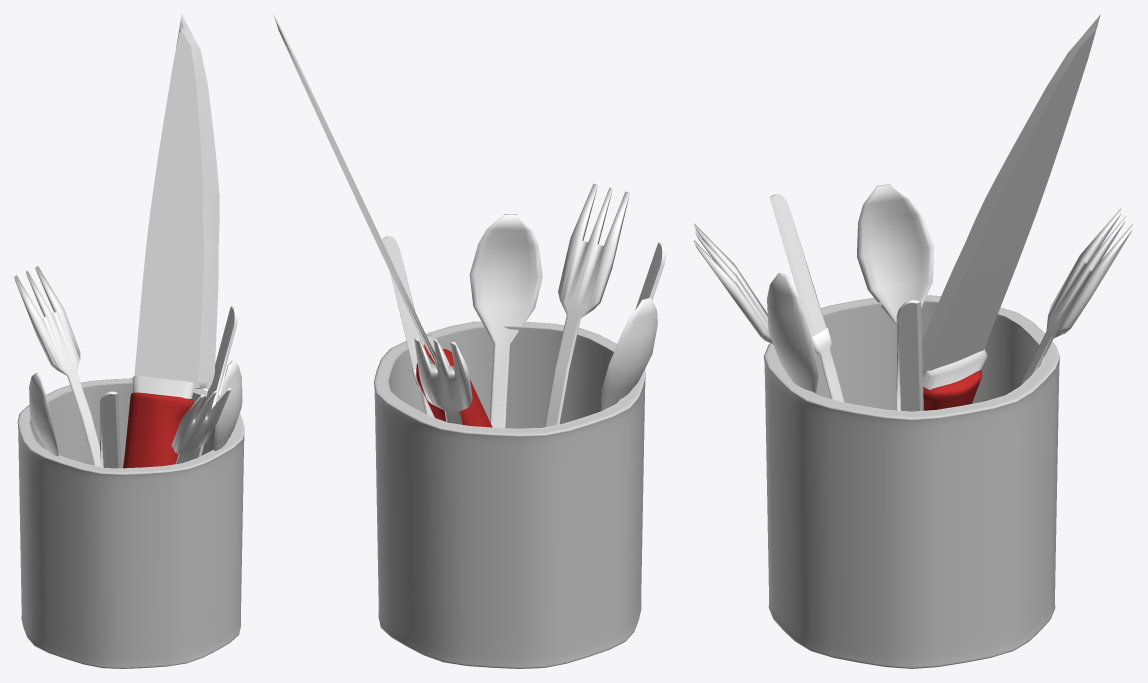
The model's file is silverware_cup.glb.
The picture shows the model from 3 angles, left to right: view 1: azimuth 30°, elevation 25°; view 2: azimuth 150°, elevation 25°; view 3: azimuth 270°, elevation 25°; orthographic projection. The views are drawn at different scales.
Parts seen in each view (by area): view 1: SilverwareCup; view 2: SilverwareCup; view 3: SilverwareCup.
Part boxes in pixels (x1,y1,x2,y2): SilverwareCup: (14,14,244,668); SilverwareCup: (273,15,665,668); SilverwareCup: (694,14,1133,668).
Bounding box in the file's own units: 0.1461 × 0.3156 × 0.1837.
